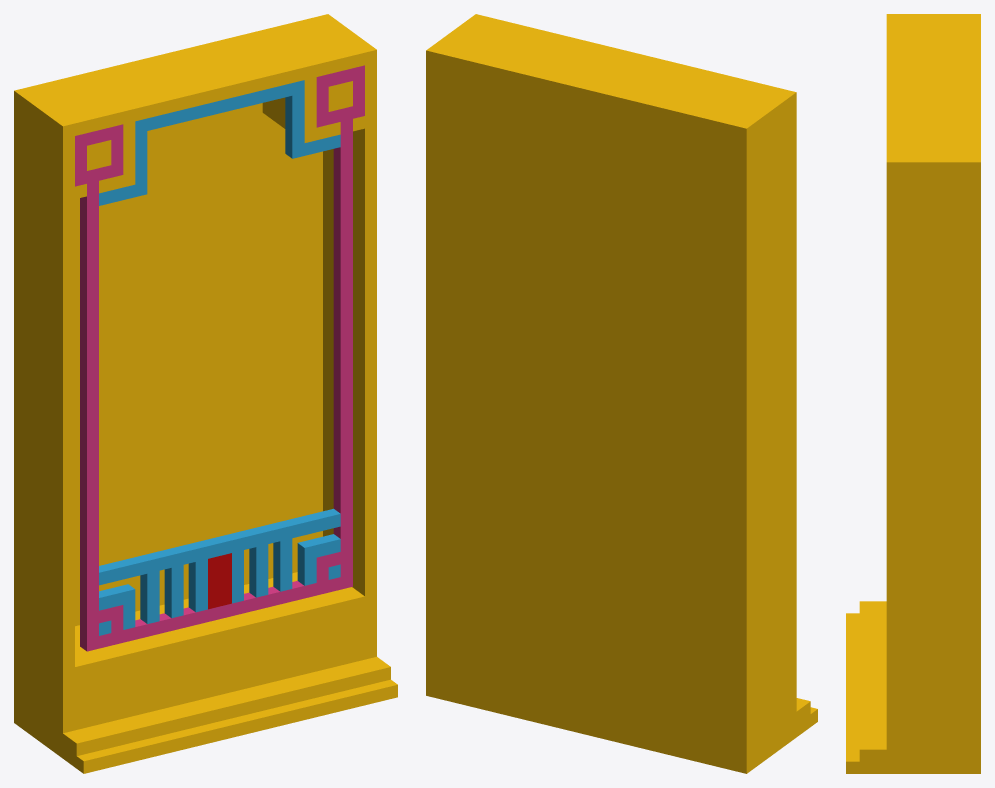
Rendered from altar.obj.
The picture shows the model from 3 angles, left to right: view 1: azimuth 30°, elevation 25°; view 2: azimuth 150°, elevation 25°; view 3: azimuth 270°, elevation 25°; orthographic projection. The views are drawn at different scales.
Visible parts, largest first — view 1: altar; view 2: altar; view 3: altar.
Boxes of the visible parts, x1=… form: altar: x1=14, y1=14, x2=397, y2=773; altar: x1=426, y1=14, x2=817, y2=773; altar: x1=846, y1=14, x2=980, y2=773.
Size of the model in its own units: 26 by 50 by 10.
